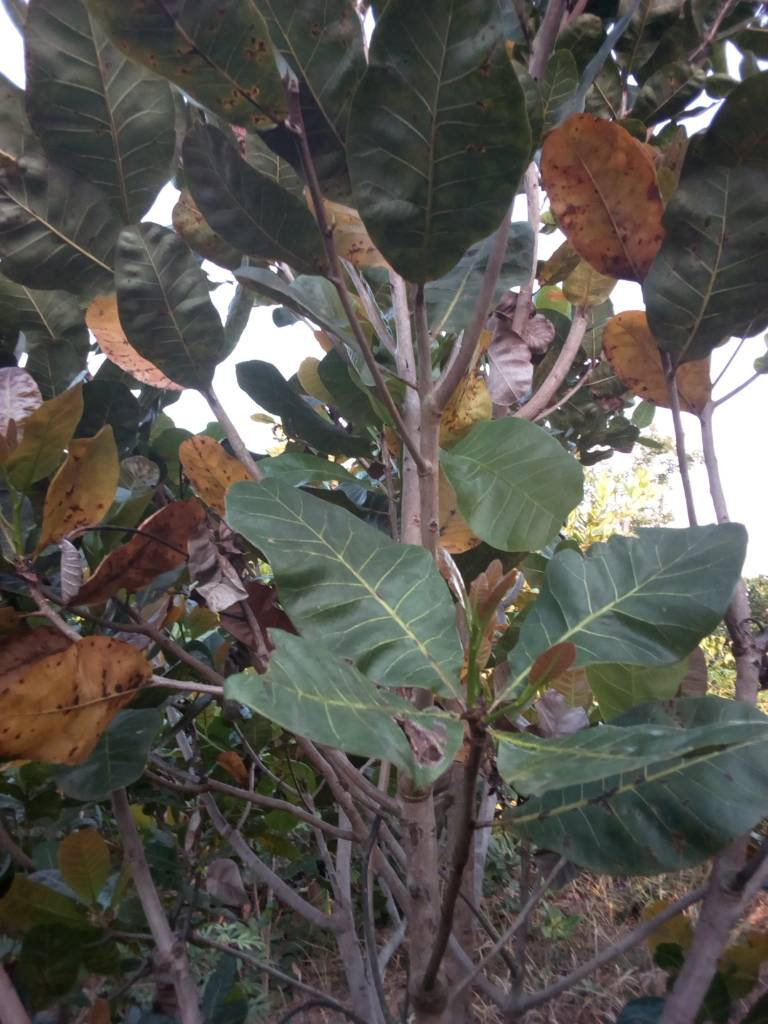Pestalotiose: (344, 1, 529, 285), (91, 1, 296, 128), (543, 114, 660, 283)
